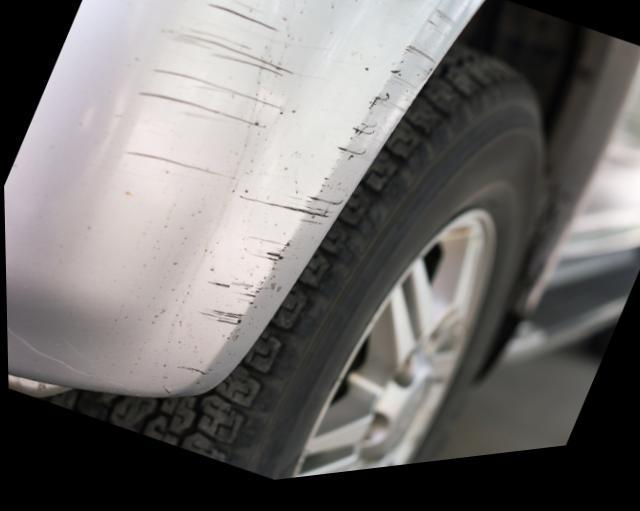scratch: (120, 0, 463, 399)
